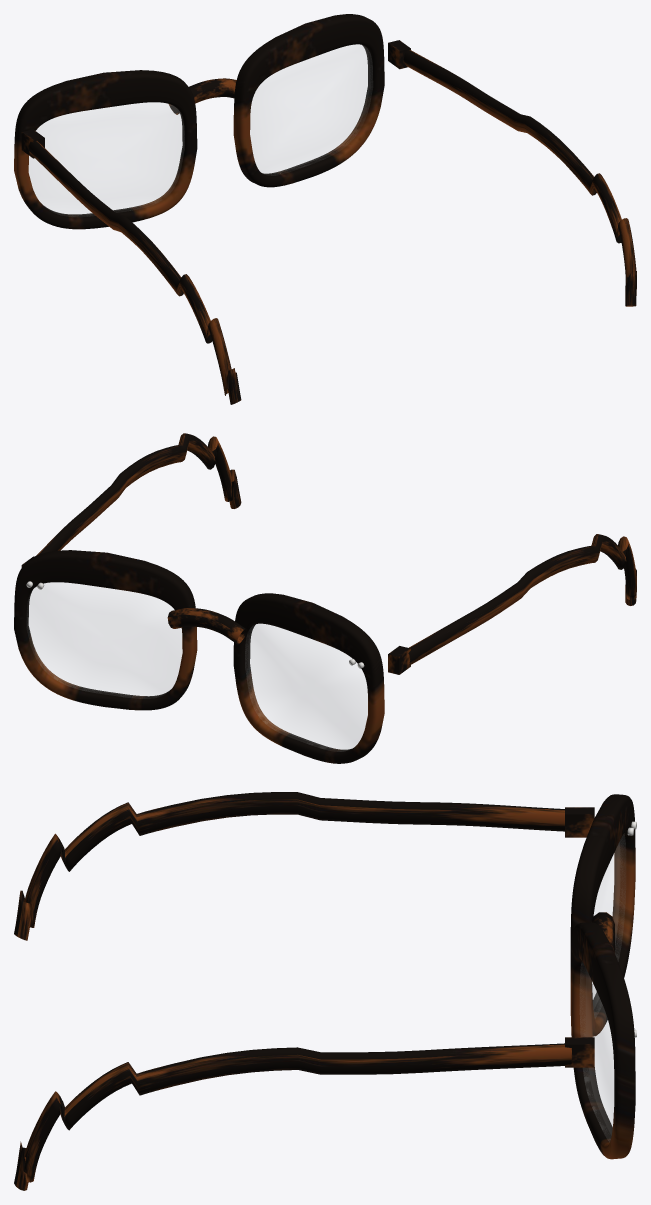
Rendered from glasses.glb.
The picture shows the model from 3 angles, top to bottom: view 1: azimuth 30°, elevation 25°; view 2: azimuth 150°, elevation 25°; view 3: azimuth 270°, elevation 25°; orthographic projection. The views are drawn at different scales.
Visible parts, largest first — view 1: lens_-1, lens_1, rim_-1, rim_1, temple_1, temple_-1, bridge; view 2: lens_1, lens_-1, rim_1, rim_-1, temple_-1, temple_1, bridge, Cube; view 3: temple_1, temple_-1, rim_1, rim_-1, lens_1, lens_-1, Cube, Cube.001.
Boxes of the visible parts, x1=… form: lens_-1: x1=29, y1=102, x2=184, y2=216; lens_1: x1=250, y1=44, x2=372, y2=175; rim_-1: x1=14, y1=70, x2=197, y2=229; rim_1: x1=233, y1=14, x2=384, y2=187; temple_1: x1=403, y1=50, x2=636, y2=306; temple_-1: x1=28, y1=141, x2=241, y2=404; bridge: x1=168, y1=78, x2=236, y2=114; lens_1: x1=27, y1=582, x2=182, y2=698; lens_-1: x1=245, y1=624, x2=367, y2=751; rim_1: x1=14, y1=550, x2=197, y2=710; rim_-1: x1=233, y1=593, x2=384, y2=763; temple_-1: x1=408, y1=534, x2=636, y2=665; temple_1: x1=36, y1=433, x2=241, y2=555; bridge: x1=167, y1=608, x2=246, y2=644; Cube: x1=388, y1=646, x2=410, y2=674; temple_1: x1=14, y1=1043, x2=571, y2=1190; temple_-1: x1=14, y1=792, x2=564, y2=940; rim_1: x1=570, y1=922, x2=635, y2=1159; rim_-1: x1=570, y1=794, x2=635, y2=1036; lens_1: x1=580, y1=963, x2=613, y2=1139; lens_-1: x1=592, y1=839, x2=625, y2=1017; Cube: x1=565, y1=807, x2=594, y2=837; Cube.001: x1=565, y1=1037, x2=594, y2=1067.
Size of the model in its own units: 0.1474 by 0.0501 by 0.146.
3 materials, 1 textured.
